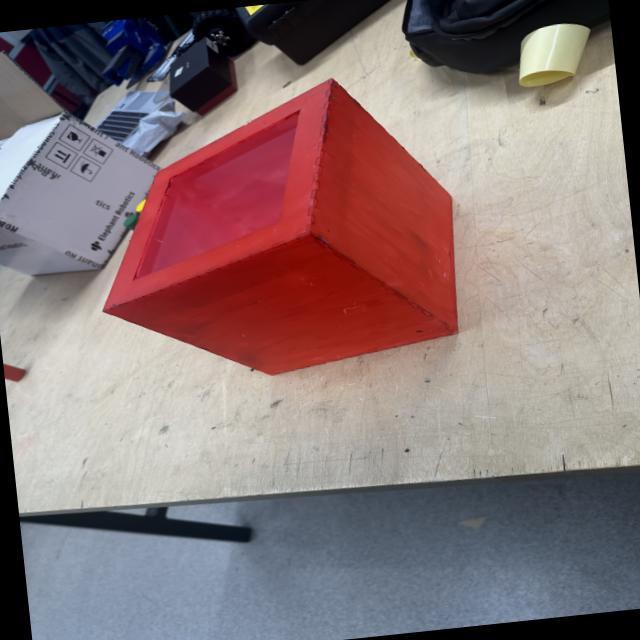red_bin: (80, 67, 470, 393)
